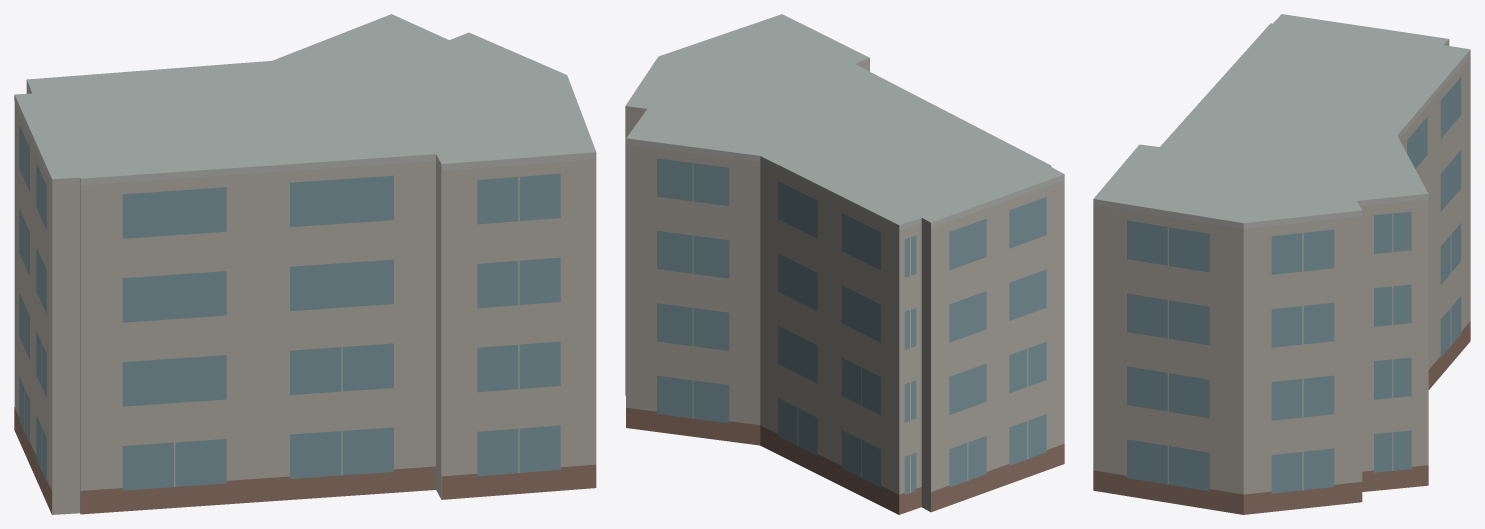
Rendered from survey-upis-32656289.glb.
3 renders of one model, left to right at view 1: azimuth 30°, elevation 25°; view 2: azimuth 150°, elevation 25°; view 3: azimuth 270°, elevation 25°, orthographic. The views are drawn at different scales.
Parts seen in each view (by area): view 1: survey-upis-32656289.tmp; view 2: survey-upis-32656289.tmp; view 3: survey-upis-32656289.tmp.
Part boxes in pixels (x1,y1,x2,y2): survey-upis-32656289.tmp: (14,14,596,514); survey-upis-32656289.tmp: (625,14,1064,514); survey-upis-32656289.tmp: (1093,14,1470,514).
Bounding box in the file's own units: 18.92 × 12.3 × 14.42.
